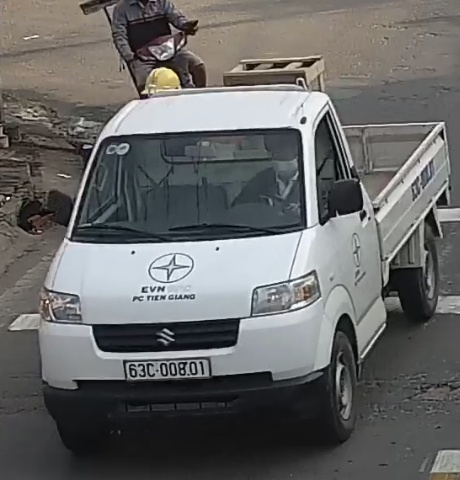vehicle plate: (121, 354, 214, 387)
